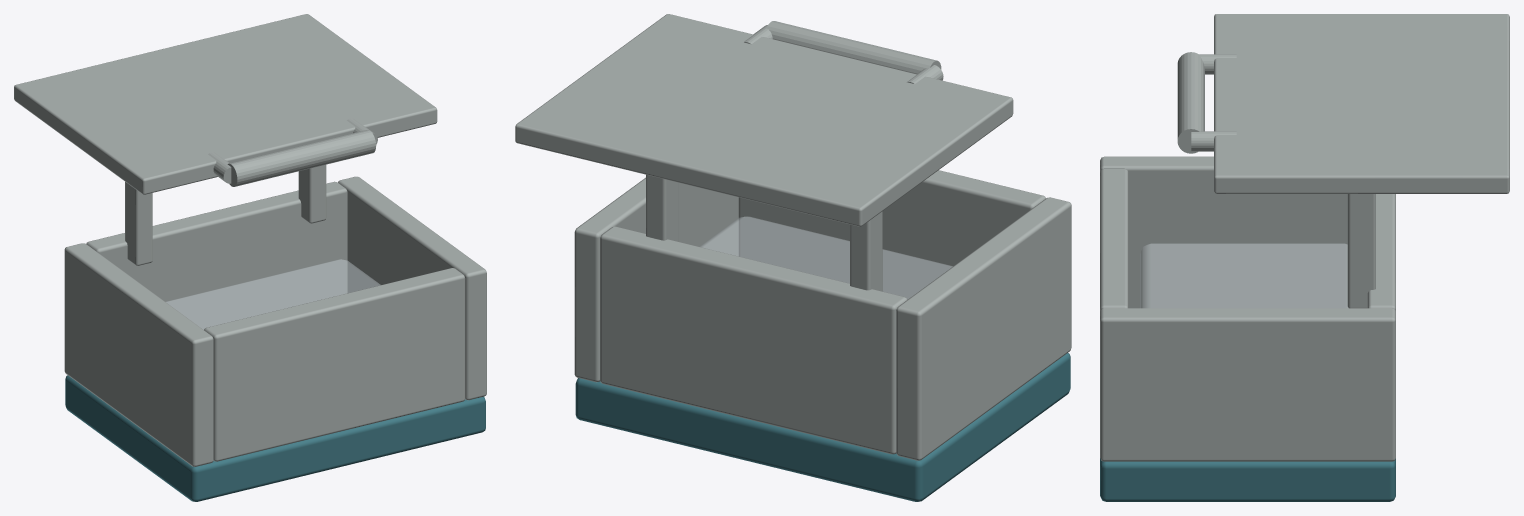
The model's file is optician-and-optical-lens-workshop-optician-and-optica-1ad5cbeb__31699.glb.
3 views of the same model, side by side, from view 1: azimuth 30°, elevation 25°; view 2: azimuth 150°, elevation 25°; view 3: azimuth 270°, elevation 25° (orthographic). The views are drawn at different scales.
Parts seen in each view (by area): view 1: optician-and-optical-lens-workshop-optical-parts-wash-bath; view 2: optician-and-optical-lens-workshop-optical-parts-wash-bath; view 3: optician-and-optical-lens-workshop-optical-parts-wash-bath.
Part boxes in pixels (box(x1,y1,x2,y2)): optician-and-optical-lens-workshop-optical-parts-wash-bath: box(14, 14, 486, 501); optician-and-optical-lens-workshop-optical-parts-wash-bath: box(515, 14, 1071, 501); optician-and-optical-lens-workshop-optical-parts-wash-bath: box(1100, 14, 1509, 501).
Bounding box in the file's own units: 0.34 × 0.322 × 0.36.
